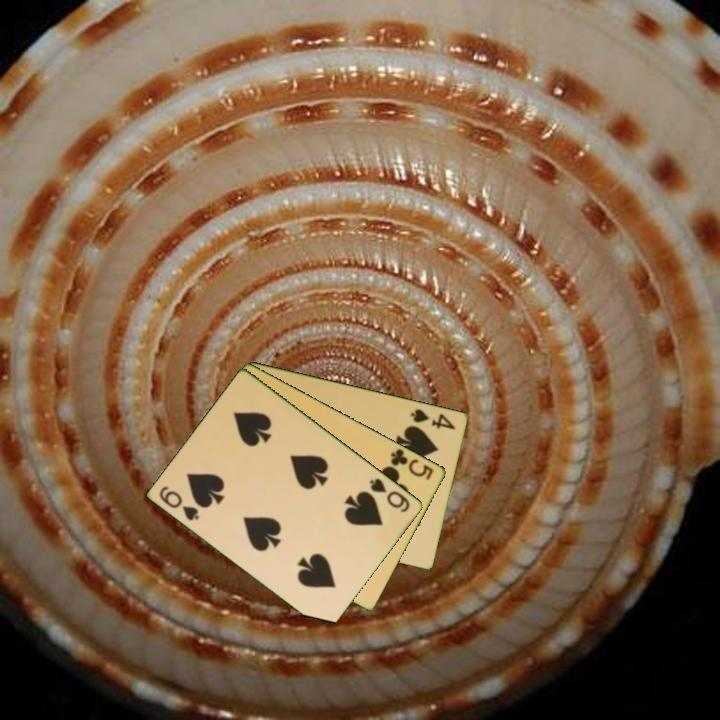4s: (407, 405, 458, 432)
5c: (387, 445, 437, 483)
6s: (366, 474, 413, 515), (156, 482, 203, 523)
